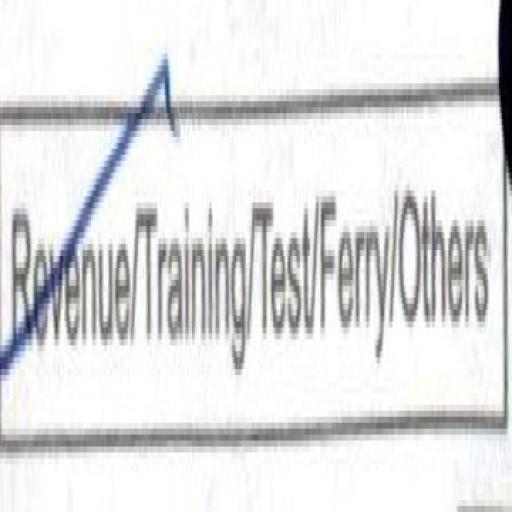check: (2, 43, 137, 484)
